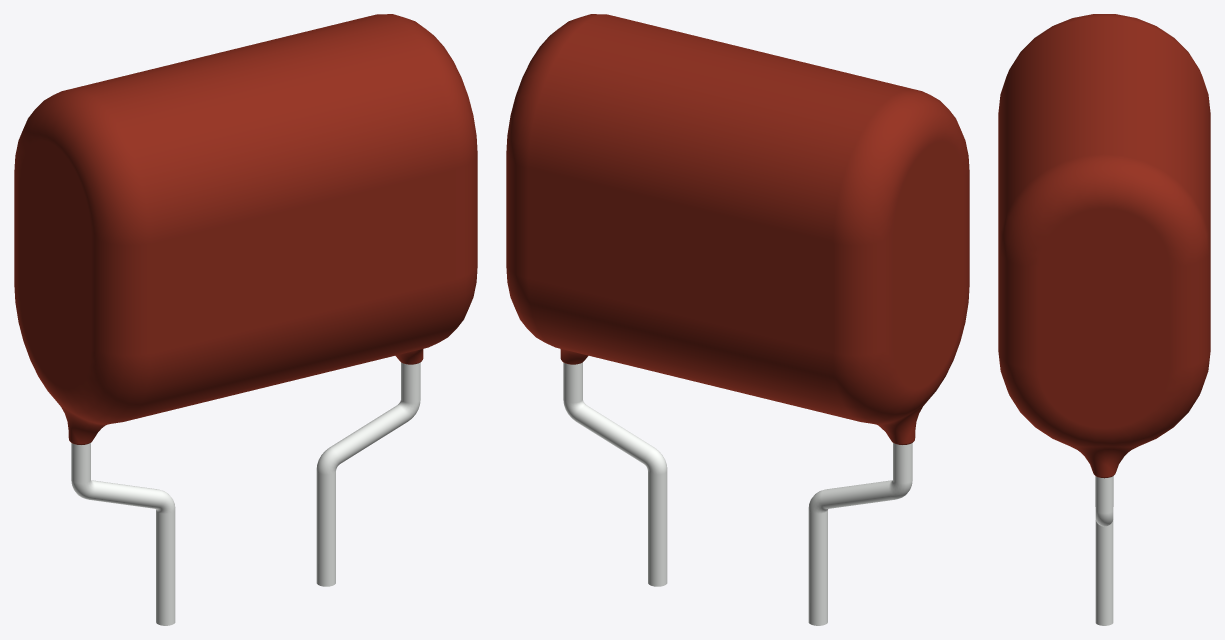
3 views of the same model, side by side, from view 1: azimuth 30°, elevation 25°; view 2: azimuth 150°, elevation 25°; view 3: azimuth 270°, elevation 25° (orthographic). The views are drawn at different scales.
Visible parts, largest first — view 1: Combine2, Sweep3, Mirror2[2]; view 2: Combine2, Sweep3, Mirror2[2]; view 3: Combine2, Sweep3.
Boxes of the visible parts, left/top/right/bottom form: Combine2: left=14, top=14, right=477, bottom=444; Sweep3: left=316, top=362, right=420, bottom=586; Mirror2[2]: left=71, top=443, right=175, bottom=625; Combine2: left=506, top=14, right=969, bottom=444; Sweep3: left=563, top=362, right=667, bottom=586; Mirror2[2]: left=808, top=443, right=912, bottom=625; Combine2: left=998, top=14, right=1210, bottom=478; Sweep3: left=1095, top=476, right=1113, bottom=625.
Size of the model in its own units: 0.7008 by 0.9528 by 0.3661.
